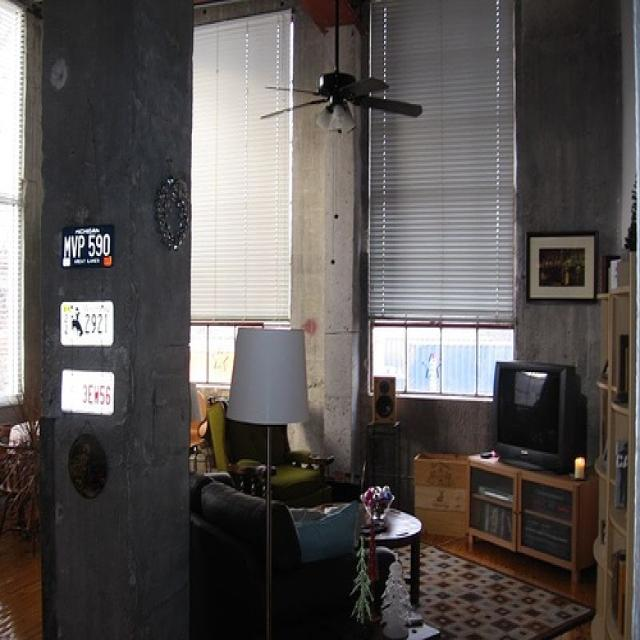tvmonitor: (487, 350, 588, 481)
